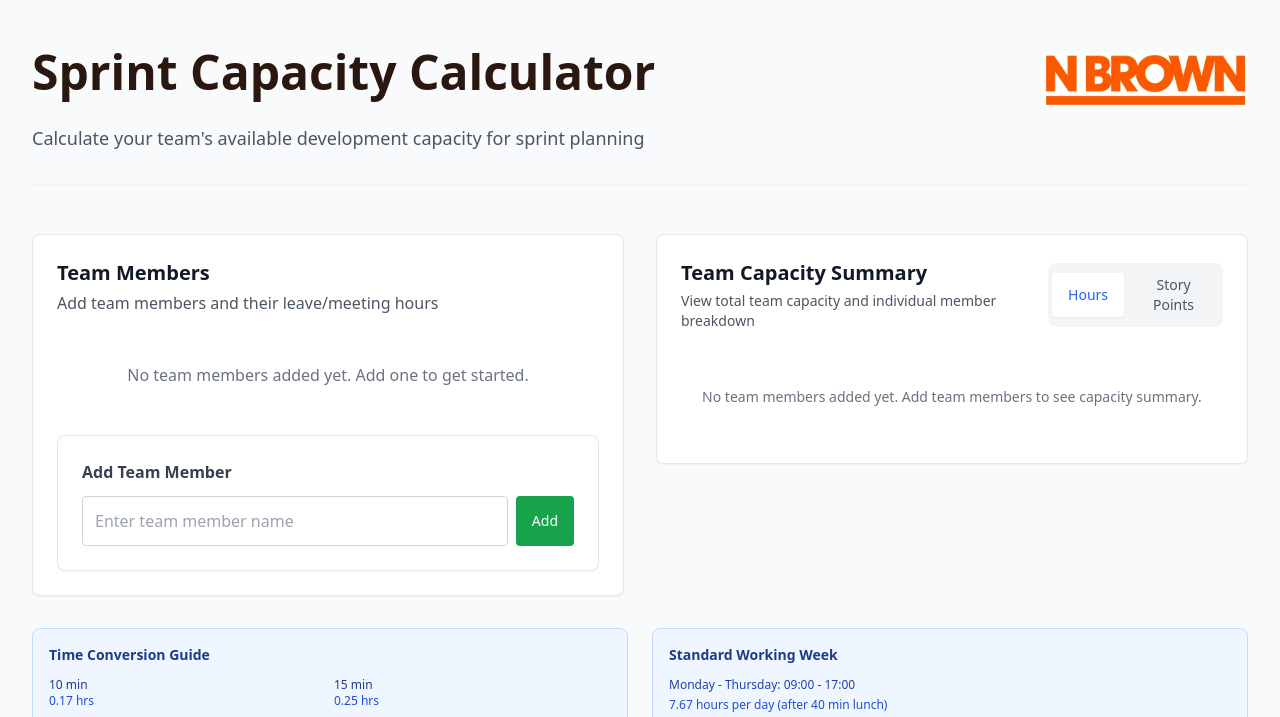
Test case: Sprint Capacity Calculator - Integration Tests › Adding and removing team members updates summary › should add a team member and update the capacity summary
Add a team member
Type "Alice Johnson" into the field with placeholder "Enter team member name".
click(295, 521); type("Alice Johnson")  # box [82,496,508,546]
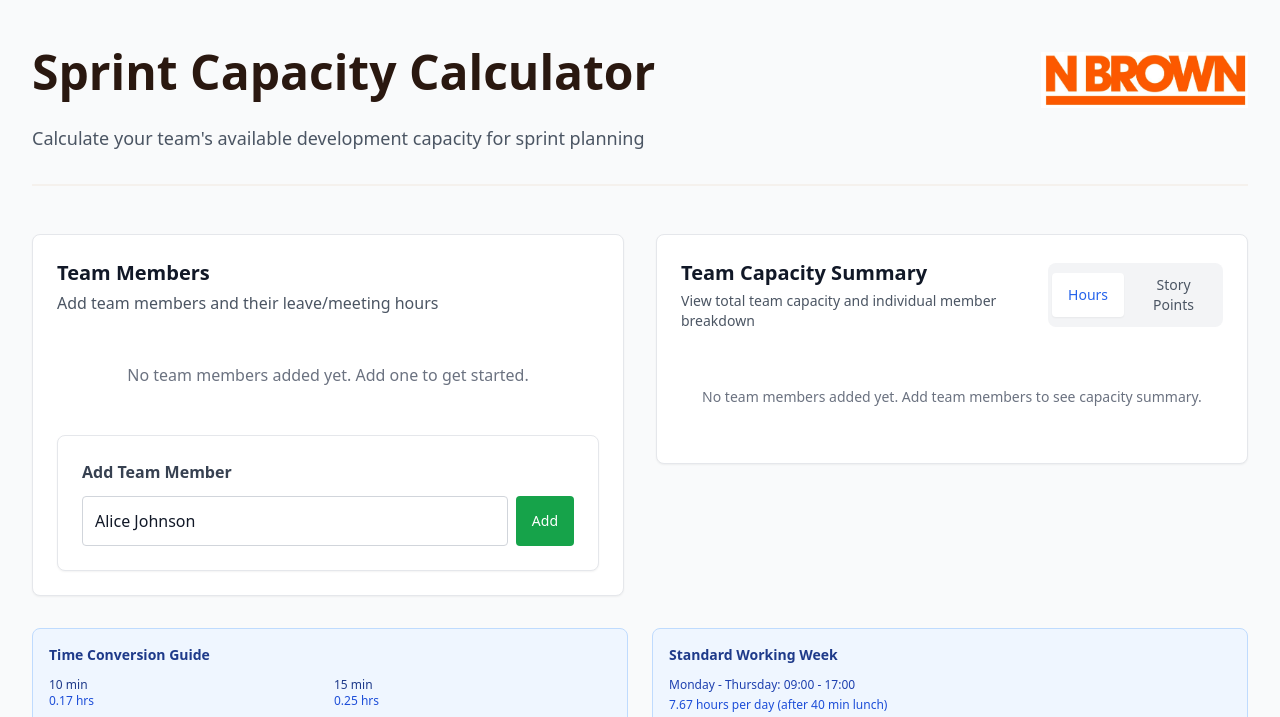
Click the button "Add".
click(545, 521)  # box [516,496,574,546]
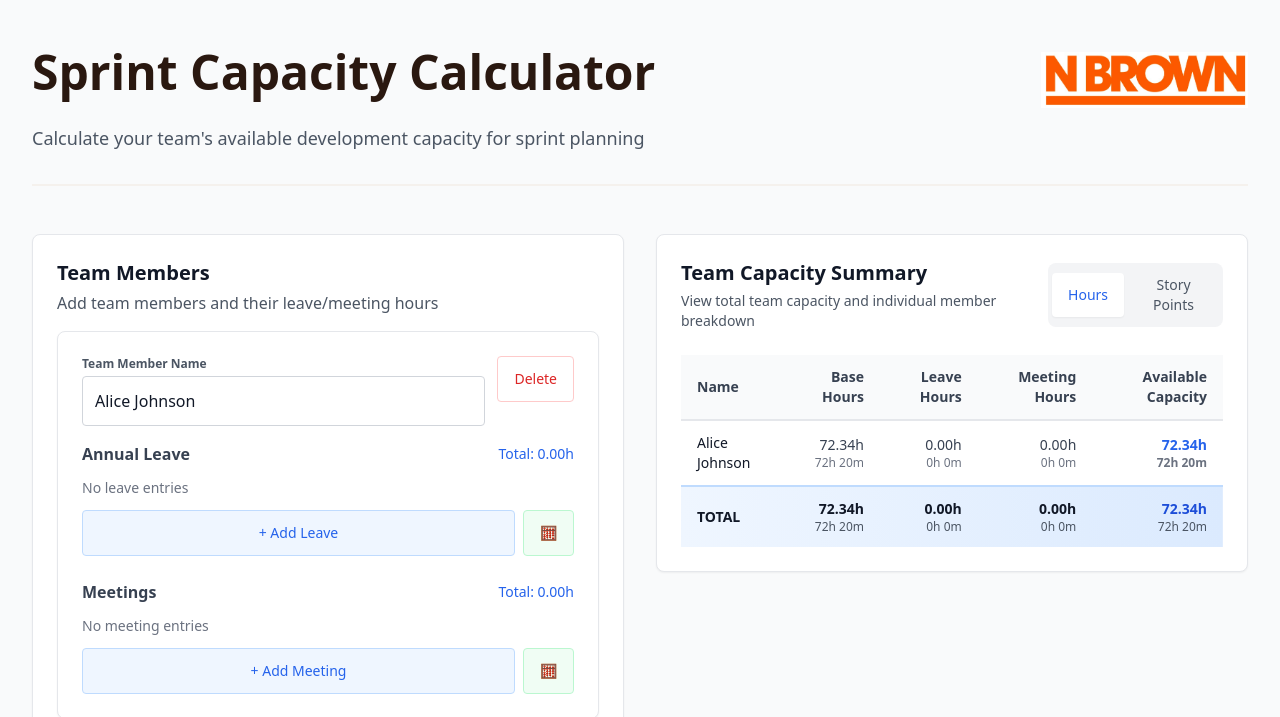
Now the field showing "Alice Johnson" is shown, box [82,376,485,426]
